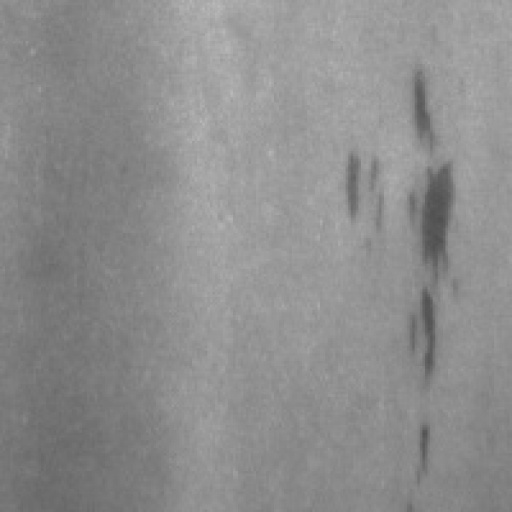inclusion: (400, 157, 467, 290), (332, 146, 390, 237), (396, 288, 443, 392), (402, 70, 443, 151), (407, 417, 441, 488)
